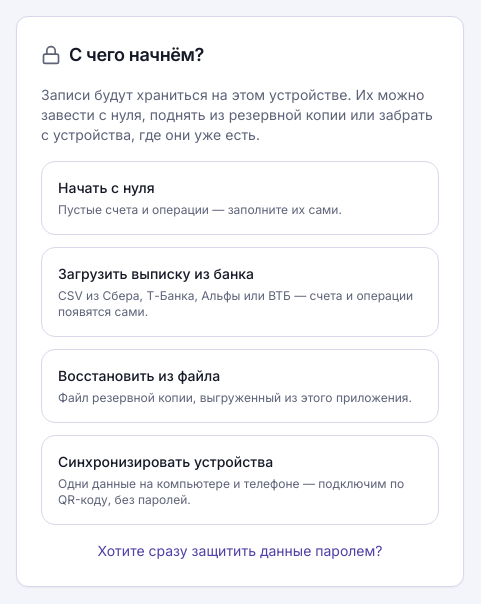
забрать данные с другого устройства › начинается с кода связки, а не с адреса службы
The width and height of the screenshot is (481, 604).
Click the text "Синхронизировать устройства" at x=166, y=461, box x1=58 y1=452 x2=273 y2=470
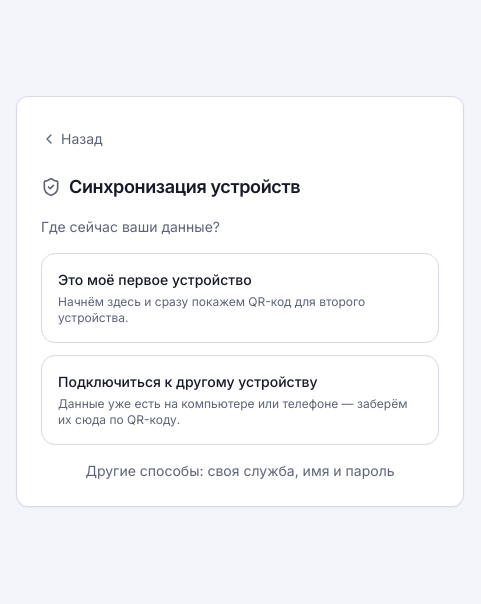
Click the button "Другие способы: своя служба, имя и пароль" at x=240, y=470, box x1=41 y1=460 x2=439 y2=480
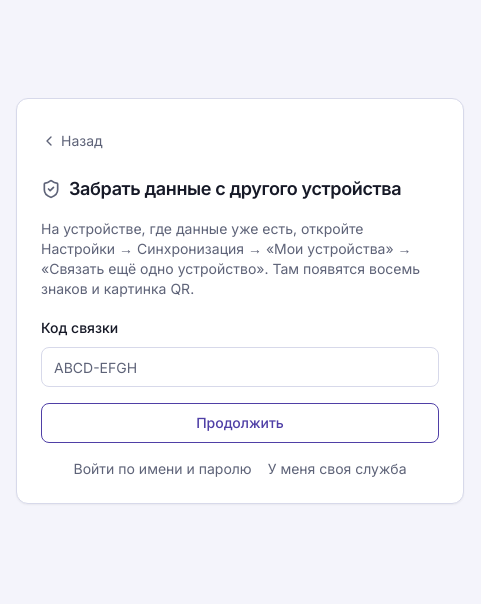
Now the field labelled "Код связки" is shown, box x1=41 y1=347 x2=439 y2=387
Now the text "Связать ещё одно устройство" is shown, box x1=41 y1=220 x2=420 y2=297
